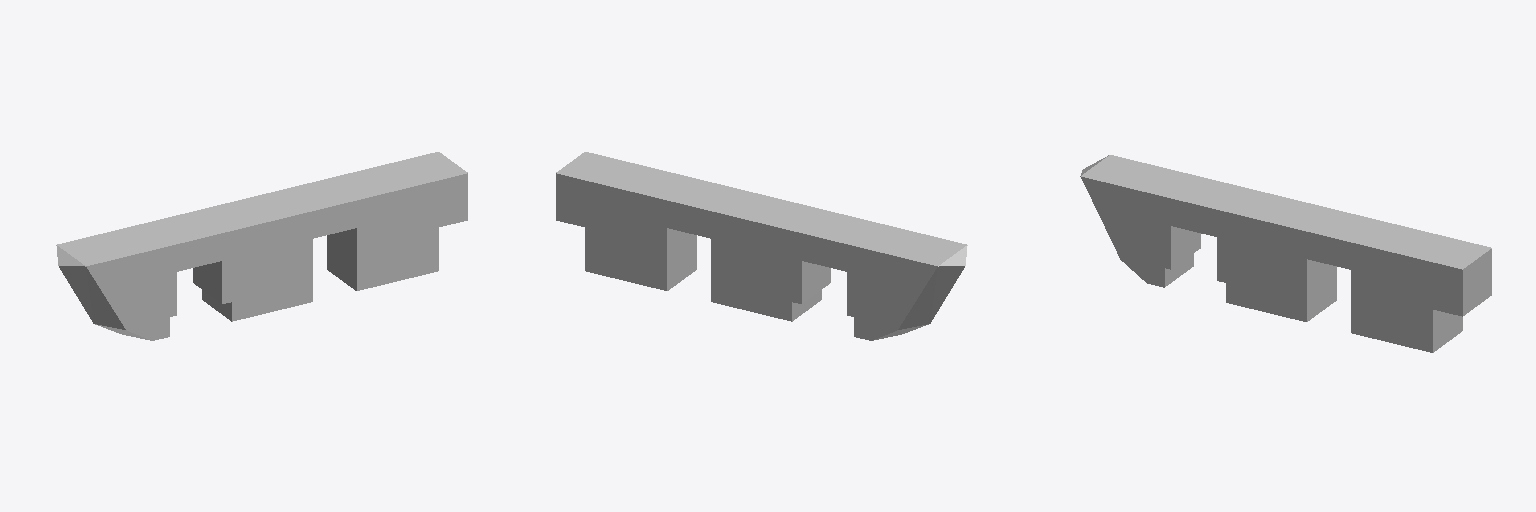
The model's file is Nose.obj.
3 renders of one model, left to right at view 1: azimuth 30°, elevation 25°; view 2: azimuth 150°, elevation 25°; view 3: azimuth 330°, elevation 25°, orthographic.
Parts seen in each view (by area): view 1: polySurface8663 Flower_board:FlowerPl11; view 2: polySurface8663 Flower_board:FlowerPl11; view 3: polySurface8663 Flower_board:FlowerPl11.
Part boxes in pixels (bbox=[...]): polySurface8663 Flower_board:FlowerPl11: bbox=[56, 152, 467, 340]; polySurface8663 Flower_board:FlowerPl11: bbox=[556, 152, 967, 340]; polySurface8663 Flower_board:FlowerPl11: bbox=[1080, 155, 1491, 352].
Bounding box in the file's own units: 0.6958 × 0.1529 × 0.0906.